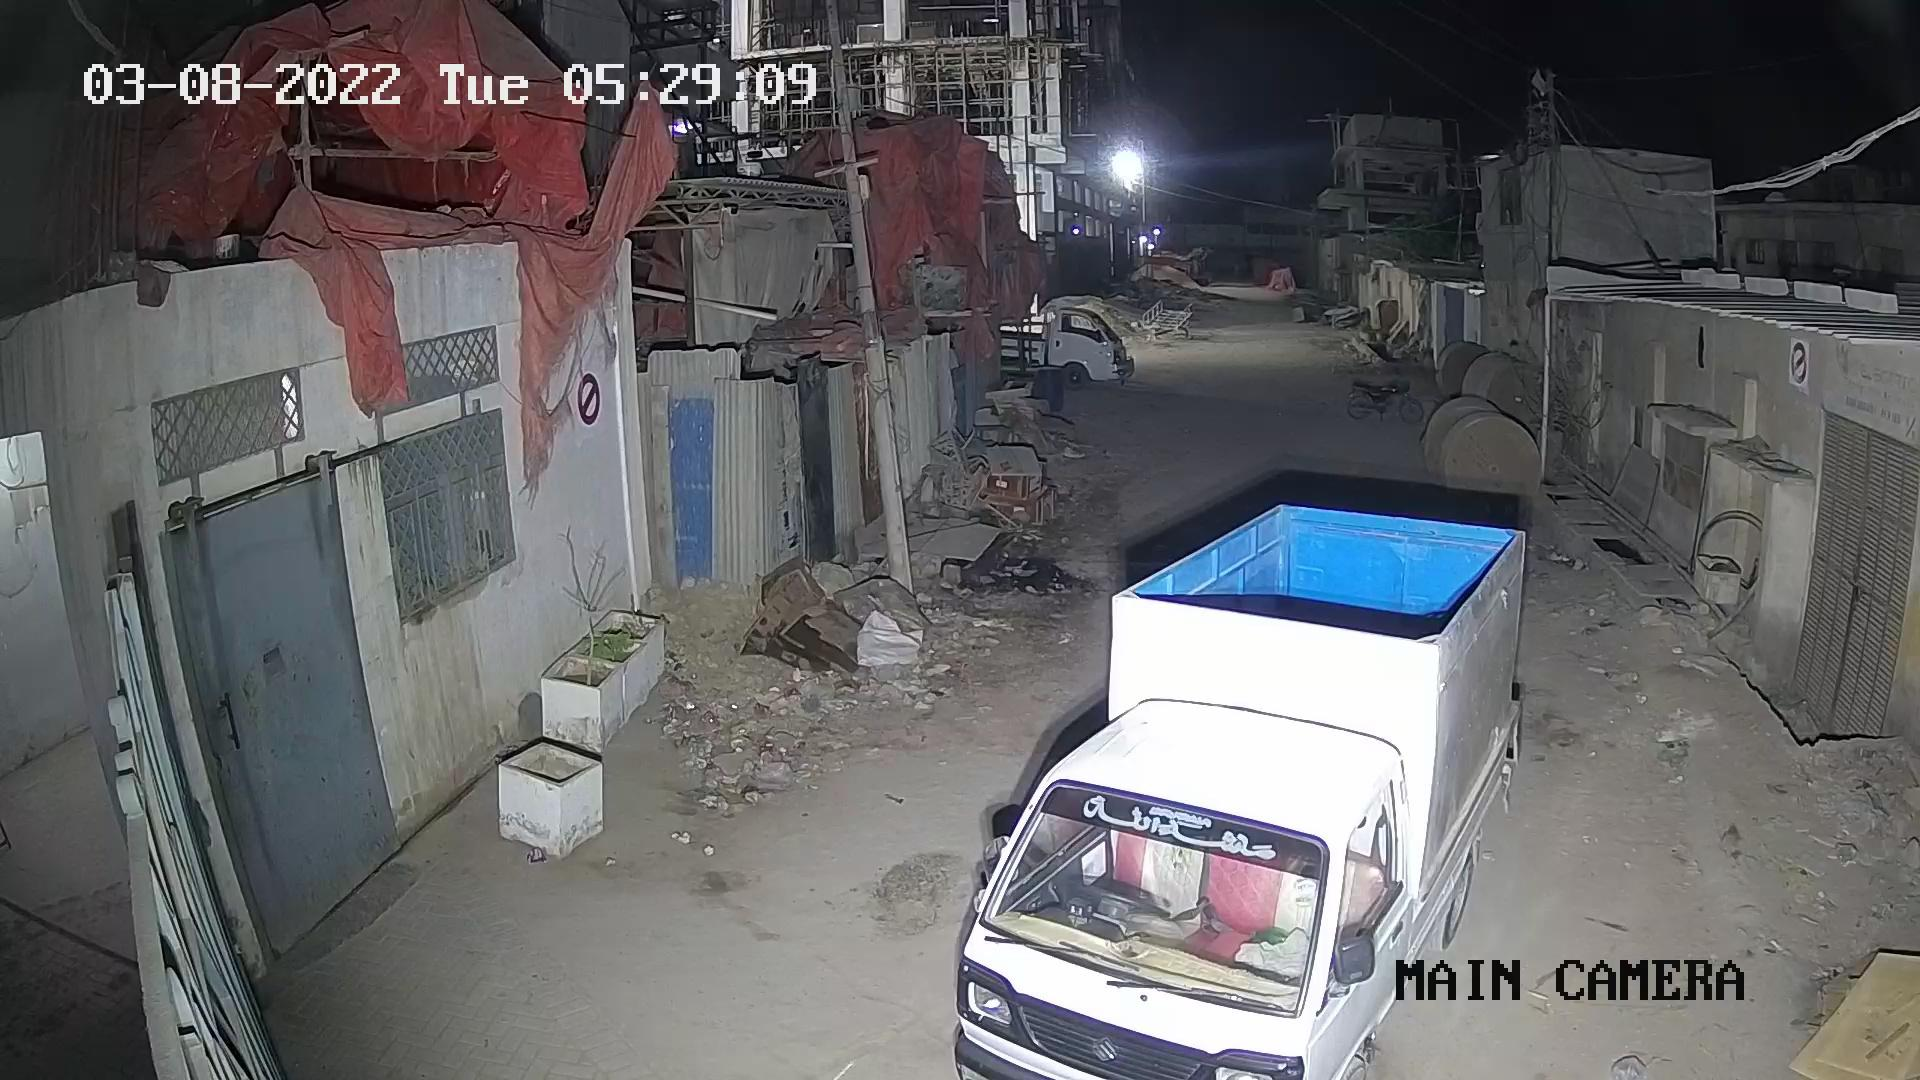Ltv: (957, 502, 1530, 1080), (1027, 306, 1135, 388)
bike: (1346, 382, 1423, 423)
